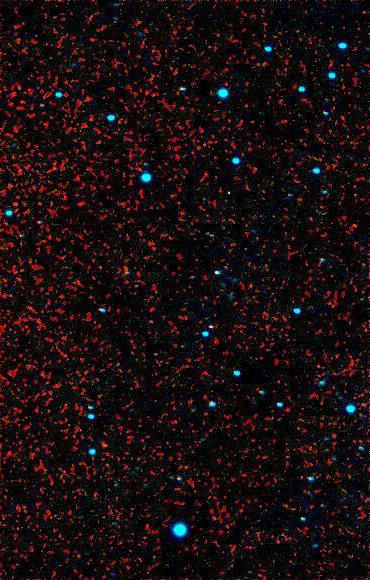star: (91, 430, 121, 460)
